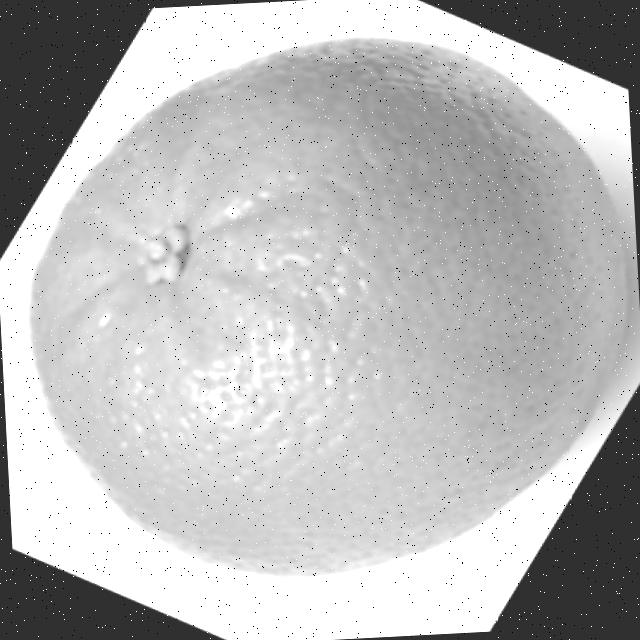orange: (11, 22, 640, 601)
